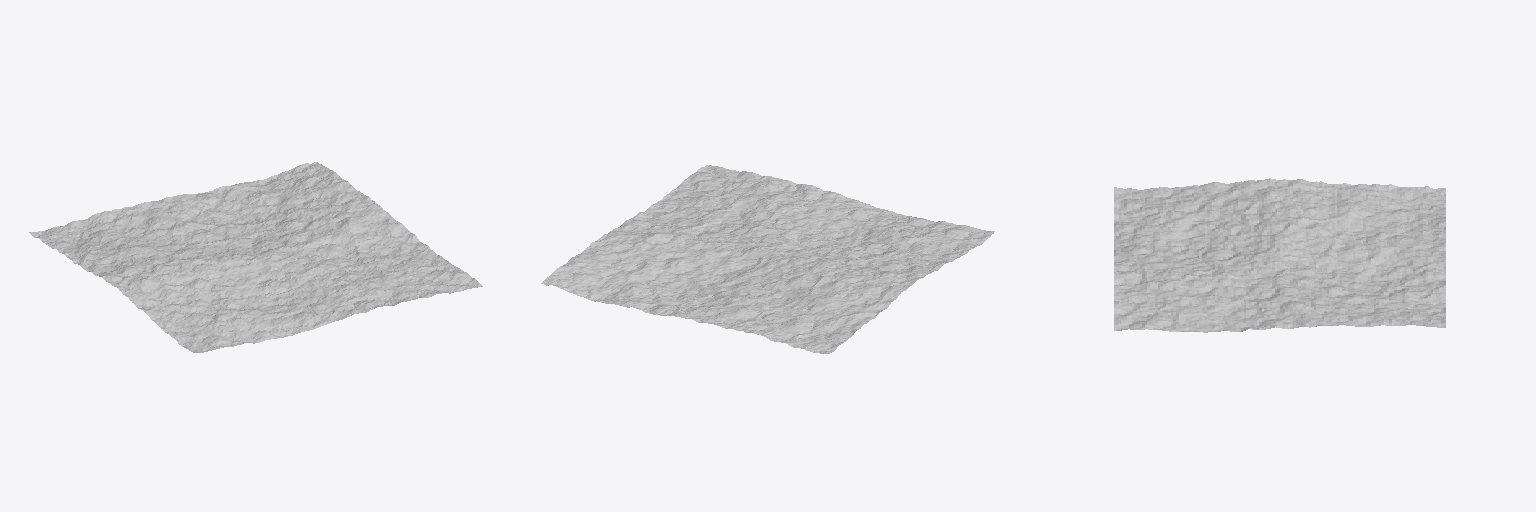
Rendered from Terrain.obj.
3 views of the same model, side by side, from view 1: azimuth 30°, elevation 25°; view 2: azimuth 150°, elevation 25°; view 3: azimuth 270°, elevation 25° (orthographic).
Parts seen in each view (by area): view 1: Plane; view 2: Plane; view 3: Plane.
Boxes of the visible parts, x1=… form: Plane: x1=29, y1=162, x2=482, y2=352; Plane: x1=541, y1=165, x2=994, y2=353; Plane: x1=1114, y1=178, x2=1445, y2=332.
Size of the model in its own units: 4 by 0.209 by 4.